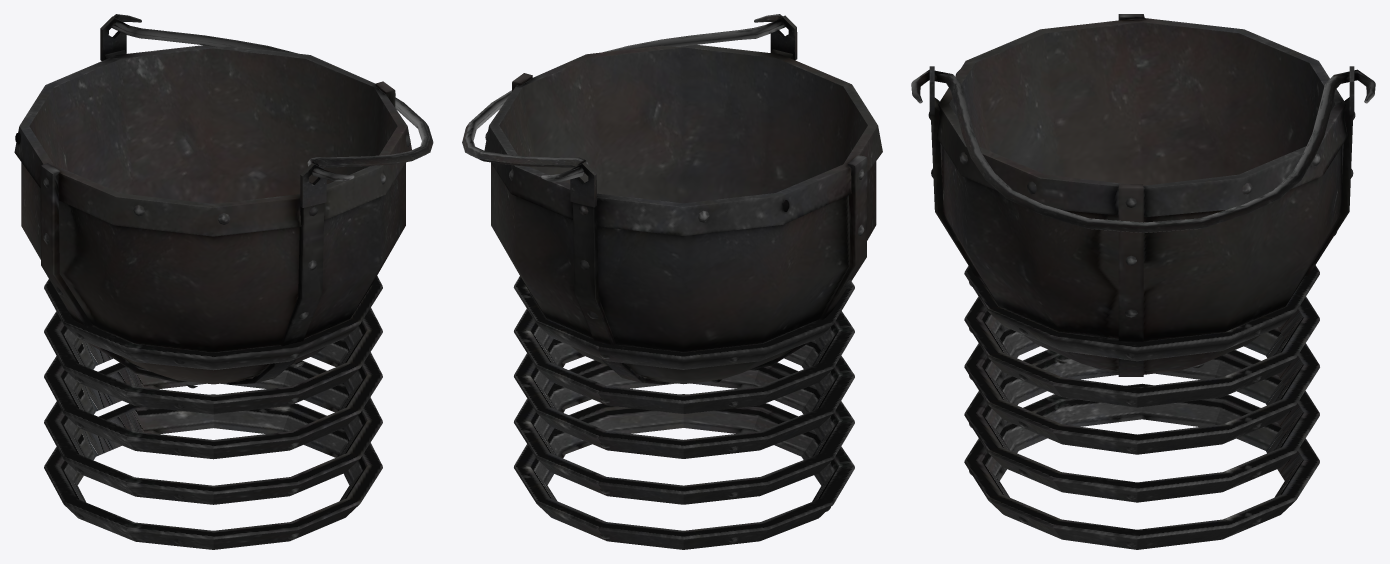
File: cauldron.obj
3 renders of one model, left to right at view 1: azimuth 30°, elevation 25°; view 2: azimuth 150°, elevation 25°; view 3: azimuth 270°, elevation 25°, orthographic. The views are drawn at different scales.
Visible parts, largest first — view 1: cauldron; view 2: cauldron; view 3: cauldron.
Part boxes in pixels (x1,y1,x2,y2): cauldron: (14,14,433,549); cauldron: (462,14,882,549); cauldron: (911,14,1375,549).
Bounding box in the file's own units: 108 × 111 × 113.
Materials: 1 (1 with a texture image).
